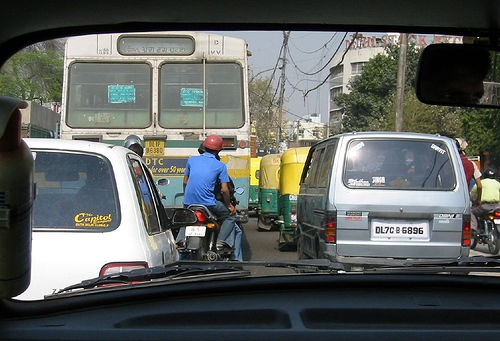non-vehicle: (182, 174, 245, 260), (472, 204, 500, 255)
